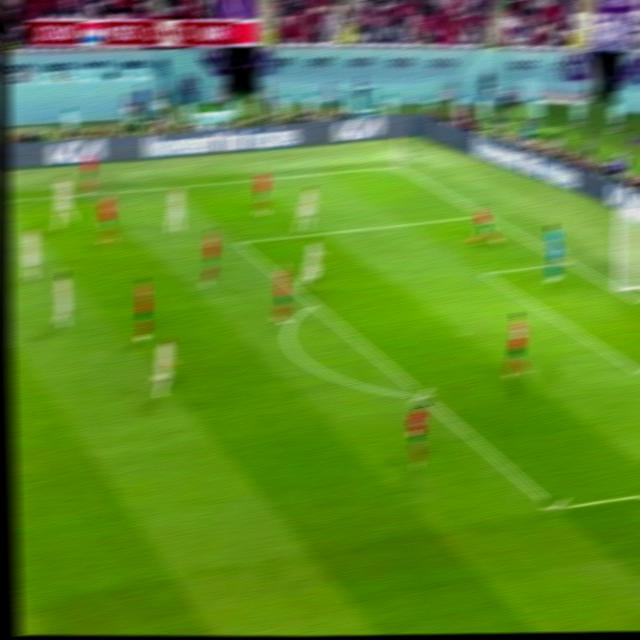bigarea_bottom_inner: (539, 492, 568, 522)
bigarea_top_inner: (227, 231, 248, 251)
bigarea_top_outter: (472, 207, 491, 224)
bottom_arc_area_intersection: (410, 383, 432, 407)
corner: (385, 157, 406, 173)
smallarea_top_inner: (472, 261, 493, 282)
smallarea_top_outter: (554, 250, 576, 270)
top_arc_area_intersection: (302, 293, 323, 313)
